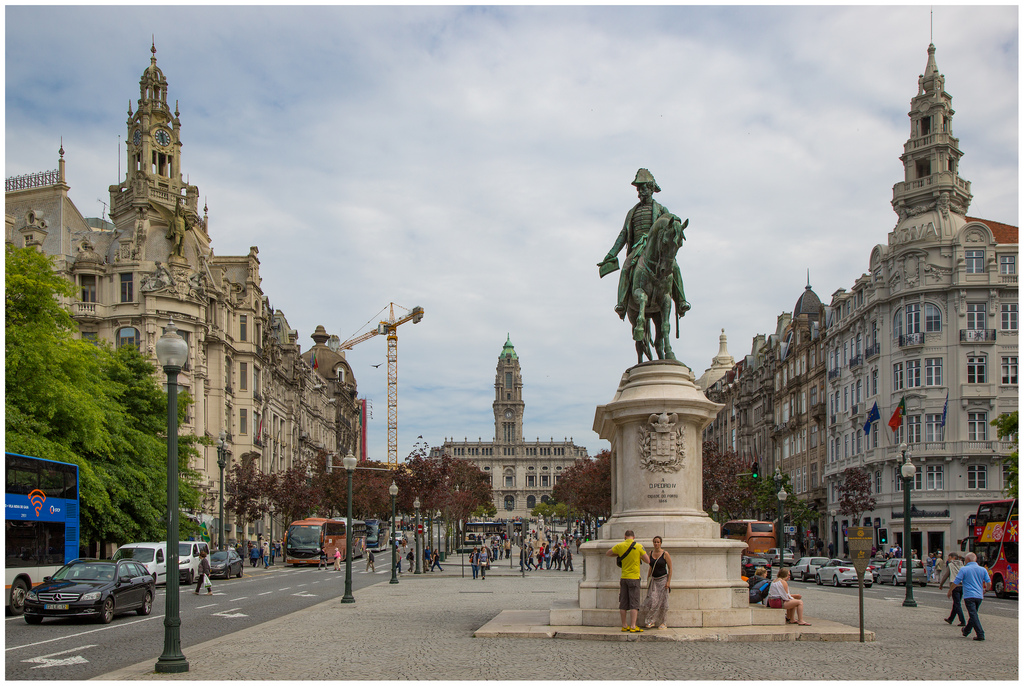camara: (426, 333, 590, 521)
